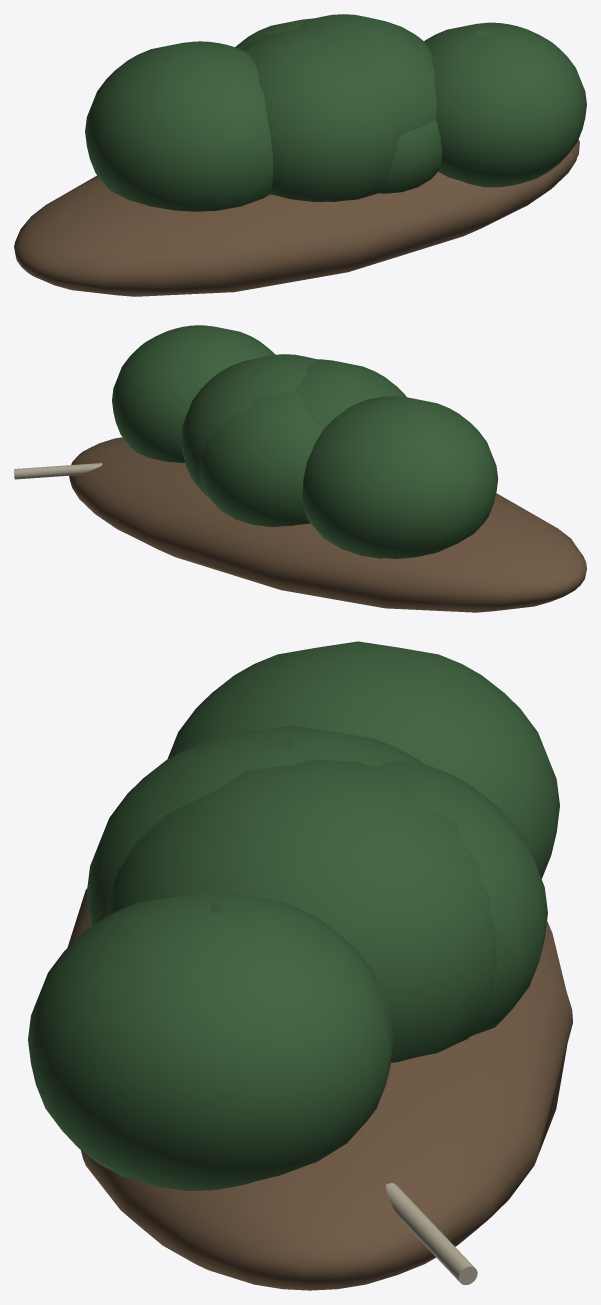
Rendered from f16-island-wooded.glb.
3 renders of one model, top to bottom at view 1: azimuth 30°, elevation 25°; view 2: azimuth 150°, elevation 25°; view 3: azimuth 270°, elevation 25°, orthographic. The views are drawn at different scales.
Parts seen in each view (by area): view 1: part0, part2, part3, part5, part4, part6, part1; view 2: part0, part2, part1, part3, part4, part5, part7; view 3: part3, part0, part4, part2, part5, part1, part7.
Boxes of the visible parts, <box> form: part0: <box>14,139,579,296</box>; part2: <box>85,41,273,211</box>; part3: <box>424,22,586,187</box>; part5: <box>241,28,400,201</box>; part4: <box>296,14,436,135</box>; part6: <box>379,120,441,193</box>; part1: <box>235,18,313,49</box>; part0: <box>69,437,586,612</box>; part2: <box>302,396,497,558</box>; part1: <box>199,392,322,526</box>; part3: <box>112,325,274,462</box>; part4: <box>181,354,316,496</box>; part5: <box>296,359,406,429</box>; part7: <box>14,463,102,479</box>; part3: <box>28,890,393,1190</box>; part0: <box>67,888,572,1290</box>; part4: <box>107,760,497,1062</box>; part2: <box>167,641,559,878</box>; part5: <box>86,725,424,926</box>; part1: <box>377,761,547,1036</box>; part7: <box>386,1183,477,1285</box>.
Bounding box in the file's own units: 46183 × 16269 × 20696.
